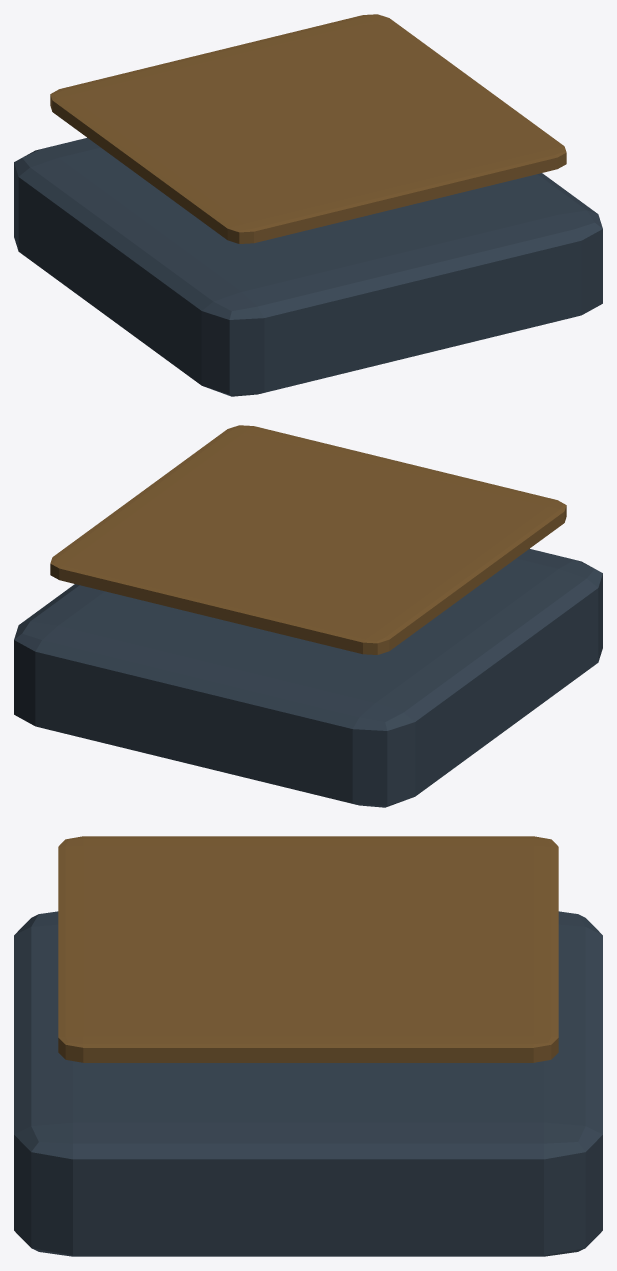
File: Board_Cell.fbx
3 renders of one model, top to bottom at view 1: azimuth 30°, elevation 25°; view 2: azimuth 150°, elevation 25°; view 3: azimuth 270°, elevation 25°, orthographic. The views are drawn at different scales.
Parts seen in each view (by area): view 1: Board_Cell_Mesh, Board_Cell_OilOverlay; view 2: Board_Cell_Mesh, Board_Cell_OilOverlay; view 3: Board_Cell_Mesh, Board_Cell_OilOverlay.
Boxes of the visible parts, x1,y1,x2,y2 form: Board_Cell_Mesh: (14, 137, 602, 396); Board_Cell_OilOverlay: (50, 14, 566, 243); Board_Cell_Mesh: (14, 548, 602, 807); Board_Cell_OilOverlay: (50, 425, 566, 654); Board_Cell_Mesh: (14, 911, 602, 1256); Board_Cell_OilOverlay: (58, 836, 558, 1062).
Size of the model in its own units: 0.8 by 0.3025 by 0.8.
